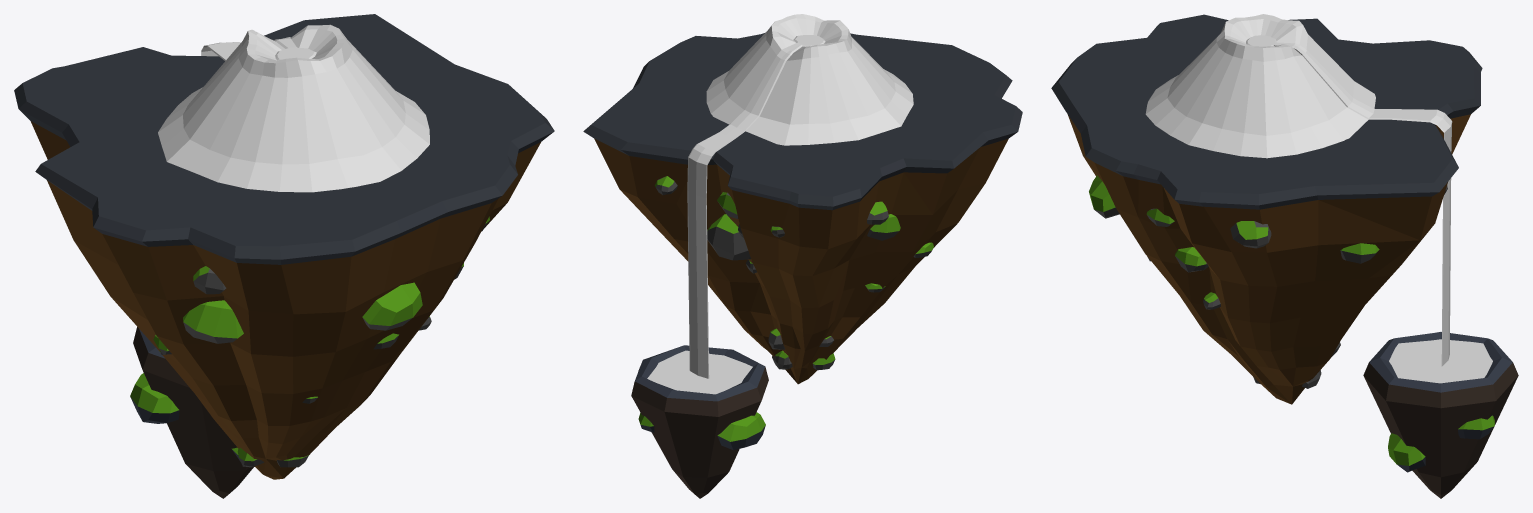
File: VulcaneIsland.fbx
3 renders of one model, left to right at view 1: azimuth 30°, elevation 25°; view 2: azimuth 150°, elevation 25°; view 3: azimuth 270°, elevation 25°, orthographic. The views are drawn at different scales.
Visible parts, largest first — view 1: VulcanIsland, Cylinder.003, VulcanIsland.003, Cylinder.004; view 2: VulcanIsland, Cylinder.003, VulcanIsland.003, Cylinder.004, Plane.001; view 3: VulcanIsland, Cylinder.003, VulcanIsland.003, Cylinder.004, Plane.001.
Boxes of the visible parts, bbox=[...] form: VulcanIsland: bbox=[14, 14, 554, 479]; Cylinder.003: bbox=[158, 24, 429, 192]; VulcanIsland.003: bbox=[130, 327, 254, 498]; Cylinder.004: bbox=[201, 37, 316, 60]; VulcanIsland: bbox=[583, 33, 1022, 384]; Cylinder.003: bbox=[706, 14, 913, 145]; VulcanIsland.003: bbox=[631, 345, 768, 498]; Cylinder.004: bbox=[687, 35, 825, 378]; Plane.001: bbox=[647, 350, 752, 394]; VulcanIsland: bbox=[1051, 14, 1482, 404]; Cylinder.003: bbox=[1145, 14, 1375, 158]; VulcanIsland.003: bbox=[1363, 332, 1518, 498]; Cylinder.004: bbox=[1246, 35, 1452, 366]; Plane.001: bbox=[1389, 339, 1492, 383].
Bounding box in the file's own units: 5032 × 5750 × 5353.
